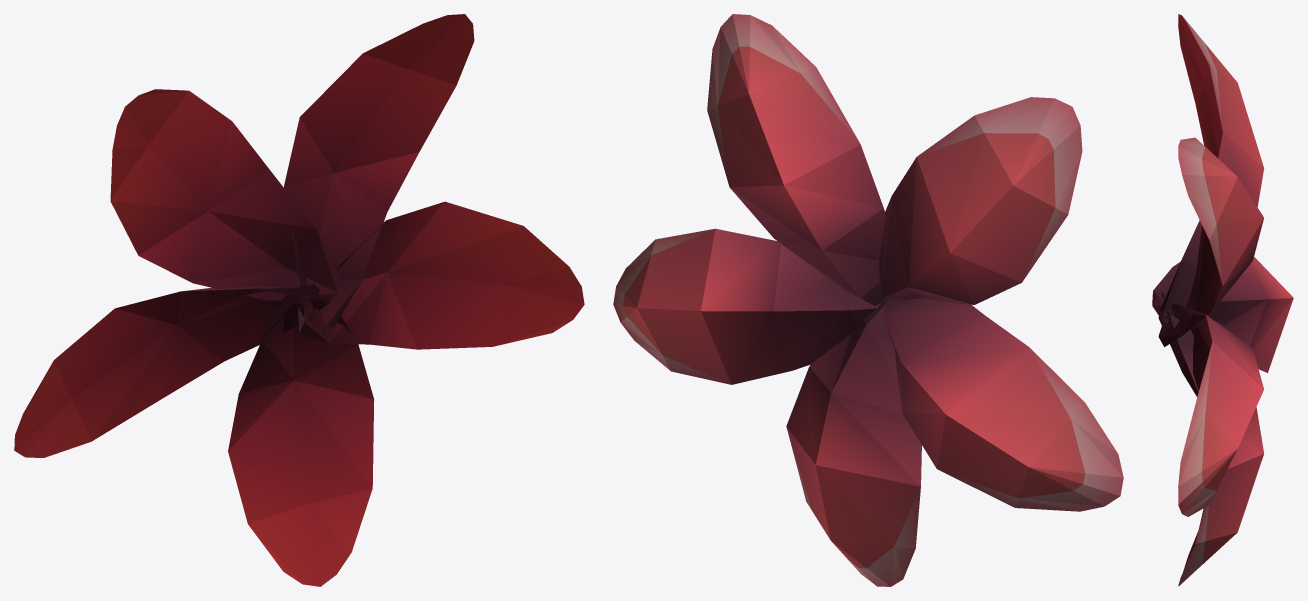
Rendered from FlowerRed.fbx.
3 renders of one model, left to right at view 1: azimuth 30°, elevation 25°; view 2: azimuth 150°, elevation 25°; view 3: azimuth 270°, elevation 25°, orthographic. The views are drawn at different scales.
Parts seen in each view (by area): view 1: FlowerRed; view 2: FlowerRed; view 3: FlowerRed.
Boxes of the visible parts, x1,y1,x2,y2 form: FlowerRed: (14,14,584,586); FlowerRed: (613,14,1123,586); FlowerRed: (1152,14,1293,586).
Bounding box in the file's own units: 59 × 56.44 × 14.58.
